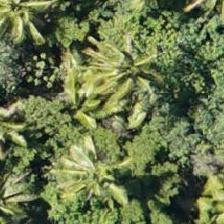coconut_tree: (83, 25, 173, 115), (45, 128, 135, 218), (0, 0, 58, 48)
